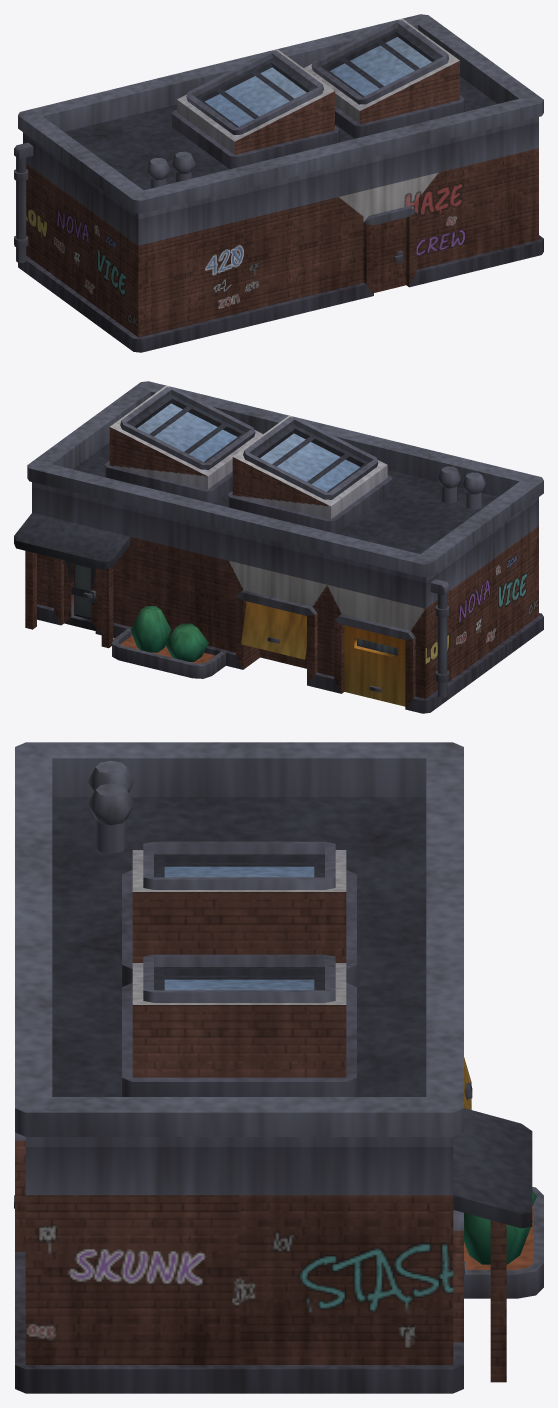
Rendered from building-p-brown-scuffed.glb.
The picture shows the model from 3 angles, top to bottom: view 1: azimuth 30°, elevation 25°; view 2: azimuth 150°, elevation 25°; view 3: azimuth 270°, elevation 25°; orthographic projection. The views are drawn at different scales.
Parts seen in each view (by area): view 1: building-p; view 2: building-p; view 3: building-p.
Part boxes in pixels (x1,y1,x2,y2): building-p: (14,14,543,352); building-p: (14,381,543,713); building-p: (14,742,543,1393).
Size of the model in its own units: 1.68 by 0.7146 by 0.992.
Materials: 1 (1 with a texture image).
